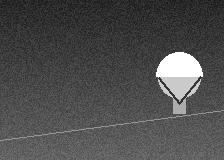helmet: (156, 52, 202, 103)
